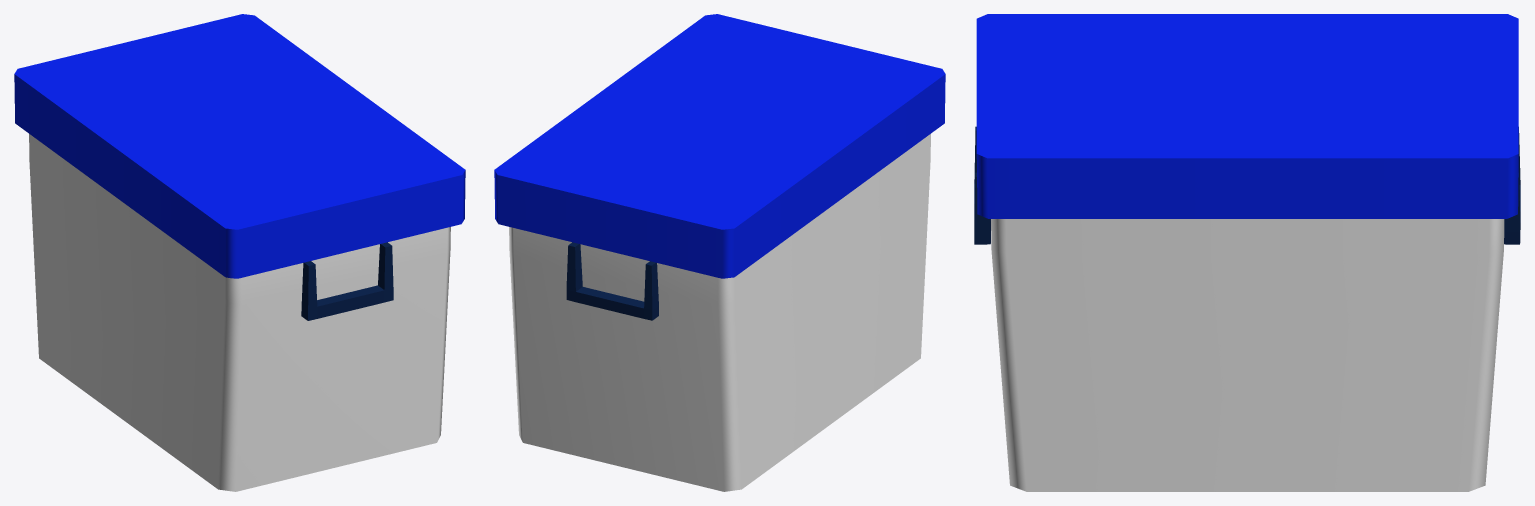
The model's file is SM_cooler_Bog.fbx.
The picture shows the model from 3 angles, left to right: view 1: azimuth 30°, elevation 25°; view 2: azimuth 150°, elevation 25°; view 3: azimuth 270°, elevation 25°; orthographic projection. The views are drawn at different scales.
Visible parts, largest first — view 1: SM_cooler_Bog; view 2: SM_cooler_Bog; view 3: SM_cooler_Bog.
Part boxes in pixels (x1,y1,x2,y2): SM_cooler_Bog: (14,14,465,491); SM_cooler_Bog: (494,14,945,491); SM_cooler_Bog: (974,14,1520,491).
Bounding box in the file's own units: 22.12 × 35.35 × 24.19.
1 material, 1 textured.
